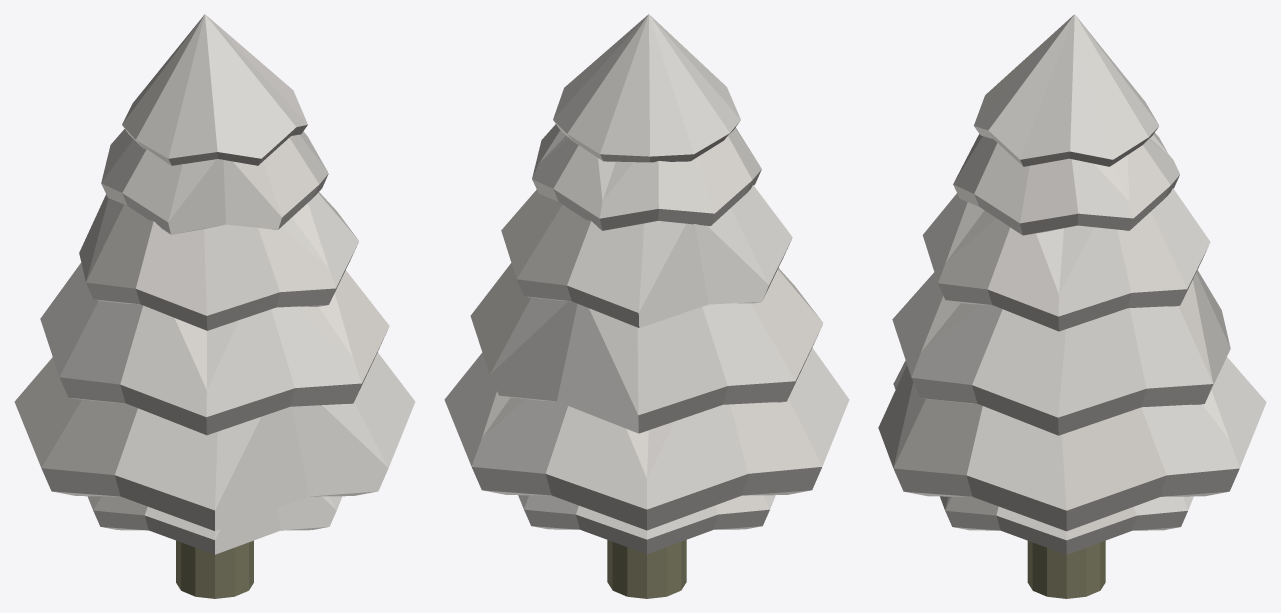
The model's file is lp_tree1(Colour).fbx.
3 renders of one model, left to right at view 1: azimuth 30°, elevation 25°; view 2: azimuth 150°, elevation 25°; view 3: azimuth 270°, elevation 25°, orthographic.
Parts seen in each view (by area): view 1: Torus.000, Torus.002, Torus.003, Cone, Torus.004, Torus.001, Cylinder; view 2: Torus.000, Torus.002, Torus.003, Cone, Torus.004, Torus.001, Cylinder; view 3: Torus.000, Torus.002, Torus.003, Cone, Torus.004, Torus.001, Cylinder.
Part boxes in pixels (x1,y1,x2,y2): Torus.000: [14, 352, 415, 530]; Torus.002: [40, 263, 389, 435]; Torus.003: [79, 192, 358, 330]; Cone: [122, 14, 307, 165]; Torus.004: [101, 129, 328, 234]; Torus.001: [87, 496, 342, 554]; Cylinder: [176, 540, 253, 598]; Torus.000: [444, 348, 849, 530]; Torus.002: [470, 263, 823, 433]; Torus.003: [501, 185, 792, 327]; Cone: [553, 14, 740, 162]; Torus.004: [532, 124, 761, 230]; Torus.001: [518, 495, 775, 554]; Cylinder: [607, 540, 686, 598]; Torus.000: [878, 357, 1266, 531]; Torus.002: [892, 270, 1230, 435]; Torus.003: [922, 188, 1210, 331]; Cone: [974, 14, 1159, 166]; Torus.004: [953, 132, 1179, 235]; Torus.001: [940, 496, 1193, 554]; Cylinder: [1027, 540, 1105, 598].
Bounding box in the file's own units: 366 × 571 × 355.
